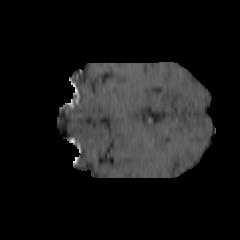glioma: (100, 110, 165, 165)
